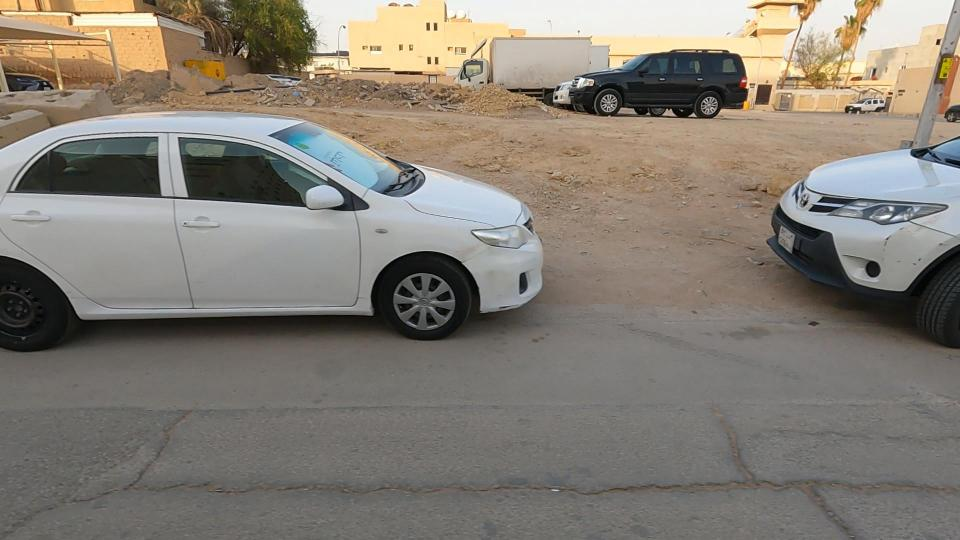GARBAGE: (242, 53, 325, 110), (234, 72, 300, 120)
